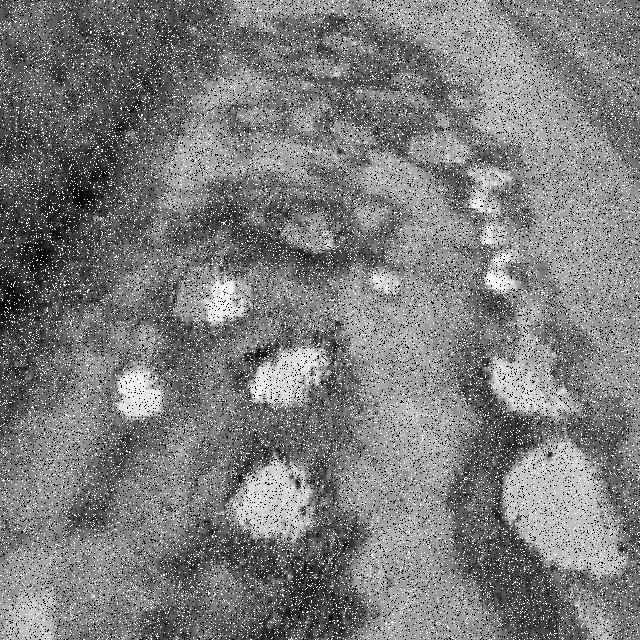pothole: (503, 443, 622, 574), (468, 167, 517, 308), (493, 326, 554, 416), (407, 127, 470, 167)
